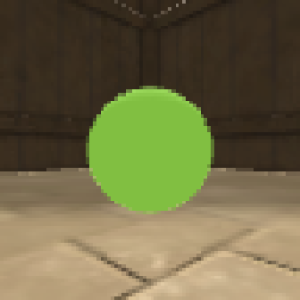goodGoal: (83, 82, 216, 214)
